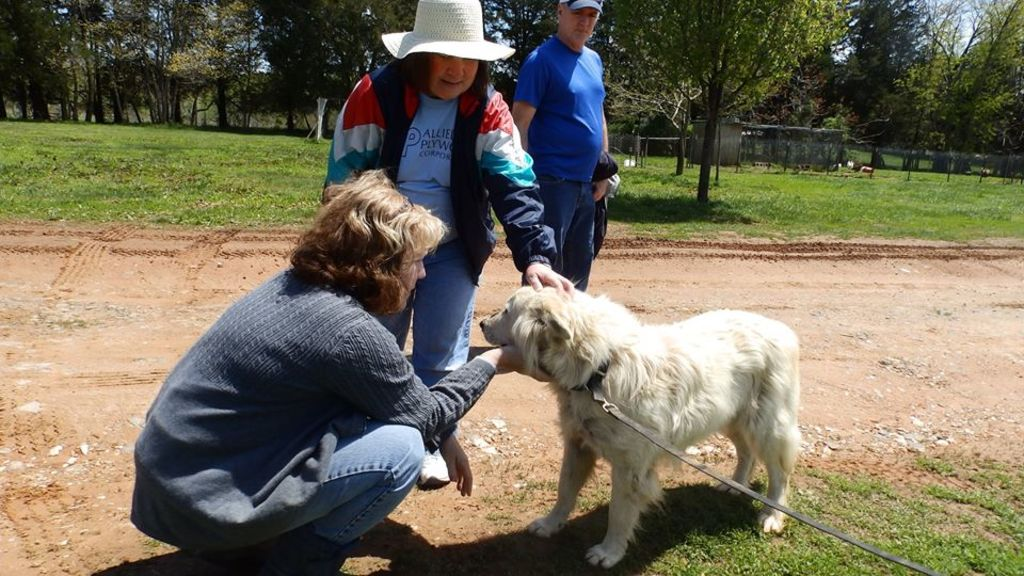Person: (126, 168, 563, 576), (324, 0, 575, 486)
